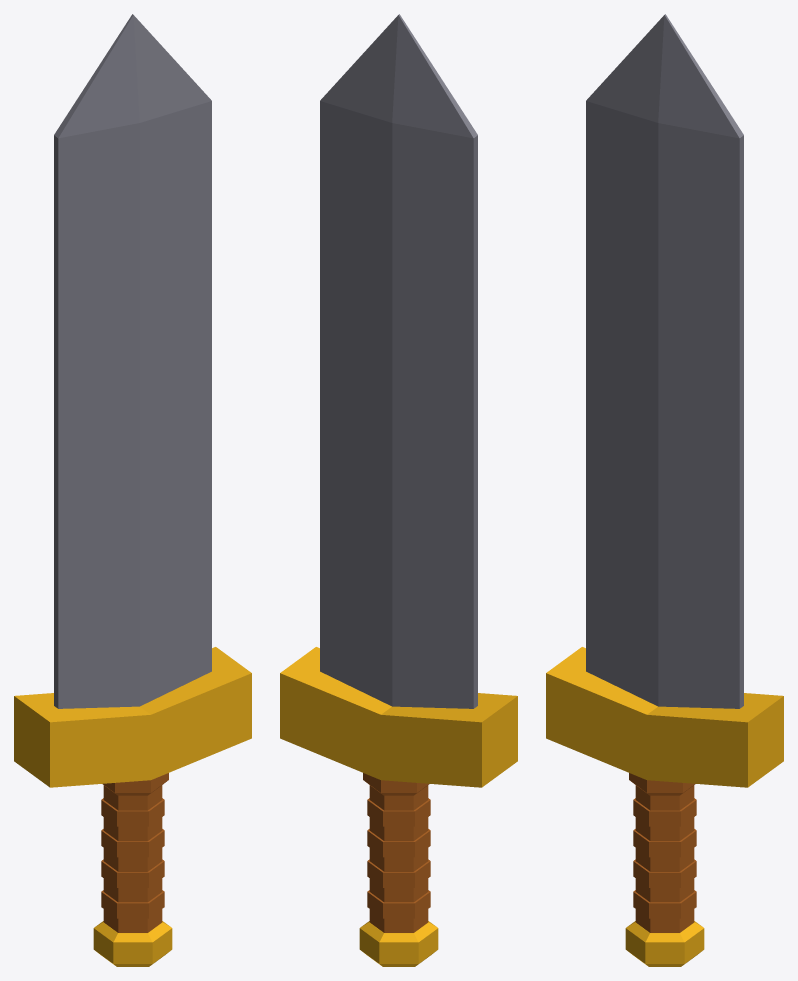
File: LowPolySword02.glb
3 views of the same model, side by side, from view 1: azimuth 30°, elevation 25°; view 2: azimuth 150°, elevation 25°; view 3: azimuth 330°, elevation 25° (orthographic).
Parts seen in each view (by area): view 1: LowPolySword02; view 2: LowPolySword02; view 3: LowPolySword02.
Part boxes in pixels (bbox=[...]): LowPolySword02: bbox=[14, 14, 251, 966]; LowPolySword02: bbox=[280, 14, 517, 966]; LowPolySword02: bbox=[546, 14, 783, 966].
Size of what is drawn, in the model's own units: 0.1848 by 0.8233 by 0.0624.
1 material, 1 textured.
